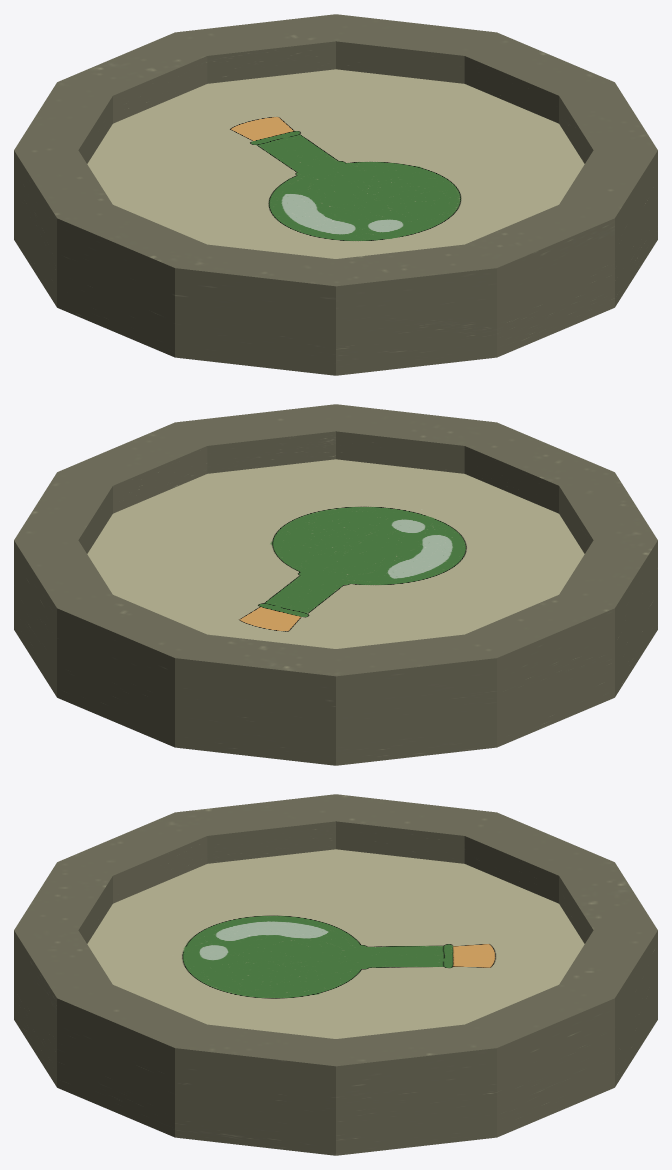
Rendered from PotionSign.fbx.
3 views of the same model, one above another, from view 1: azimuth 30°, elevation 25°; view 2: azimuth 150°, elevation 25°; view 3: azimuth 270°, elevation 25° (orthographic).
Parts seen in each view (by area): view 1: pCylinder6; view 2: pCylinder6; view 3: pCylinder6.
Part boxes in pixels (<box>): pCylinder6: <box>14,14,657,375</box>; pCylinder6: <box>14,404,657,765</box>; pCylinder6: <box>14,794,657,1155</box>.
Size of the model in its own units: 2.51 by 0.3845 by 2.51.
